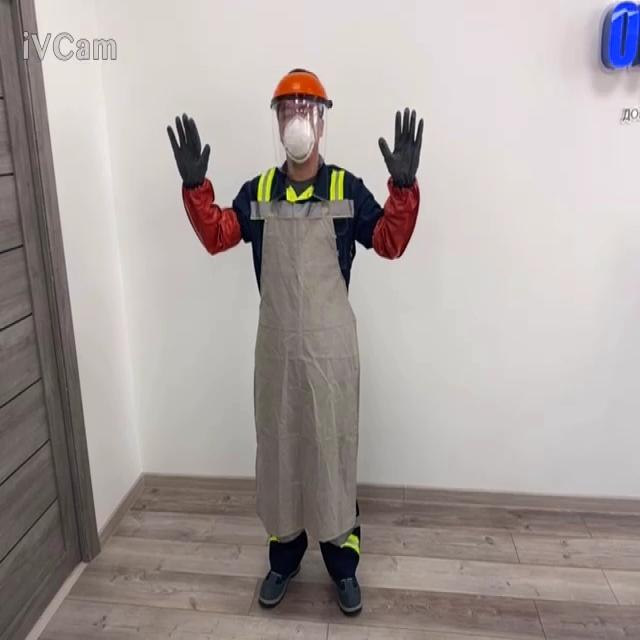Gloves: (378, 107, 423, 188), (166, 112, 210, 188), (599, 0, 639, 71)
Mask: (281, 111, 316, 164)
Protective apron: (249, 191, 361, 544)
Safety Shoes: (257, 561, 301, 607), (333, 574, 362, 614)
Sleeve: (181, 176, 242, 255), (371, 175, 419, 260)
